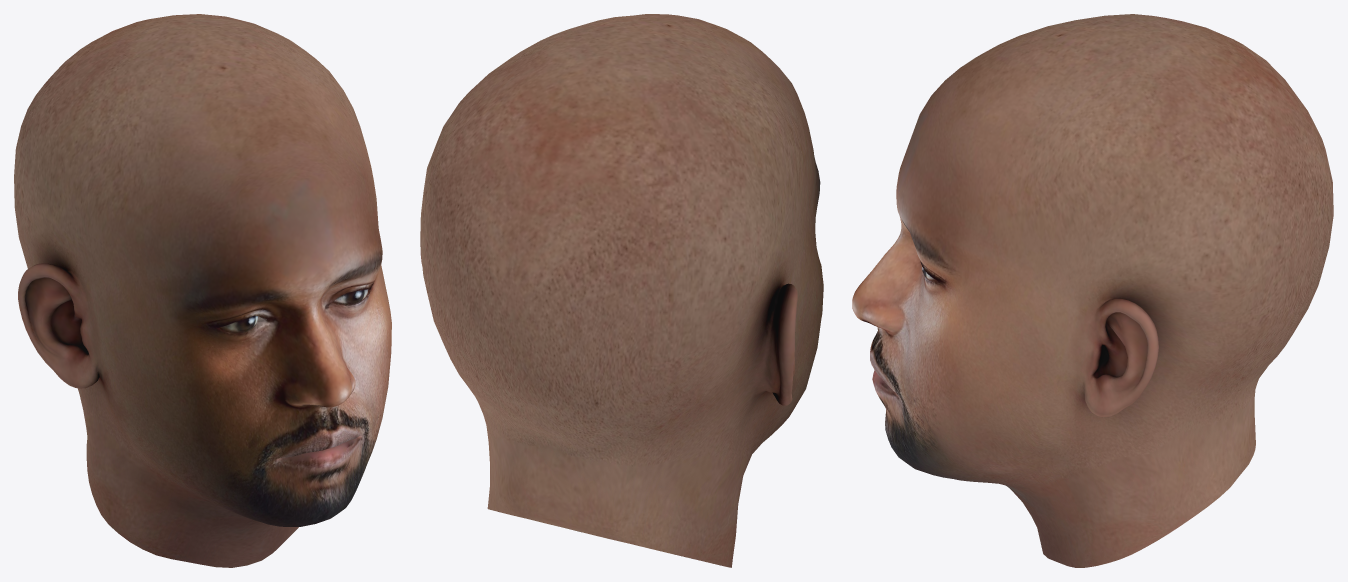
The model's file is alex-jones.glb.
The picture shows the model from 3 angles, left to right: view 1: azimuth 30°, elevation 25°; view 2: azimuth 150°, elevation 25°; view 3: azimuth 270°, elevation 25°; orthographic projection. The views are drawn at different scales.
Visible parts, largest first — view 1: Object_2; view 2: Object_2; view 3: Object_2.
Boxes of the visible parts, x1=… form: Object_2: x1=14, y1=14, x2=391, y2=567; Object_2: x1=420, y1=14, x2=823, y2=567; Object_2: x1=852, y1=14, x2=1333, y2=567.
Bounding box in the file's own units: 1.21 × 1.69 × 1.44.
Materials: 1 (1 with a texture image).
